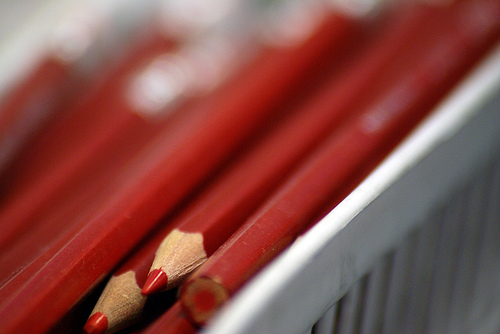pen_tip: (134, 218, 227, 299)
